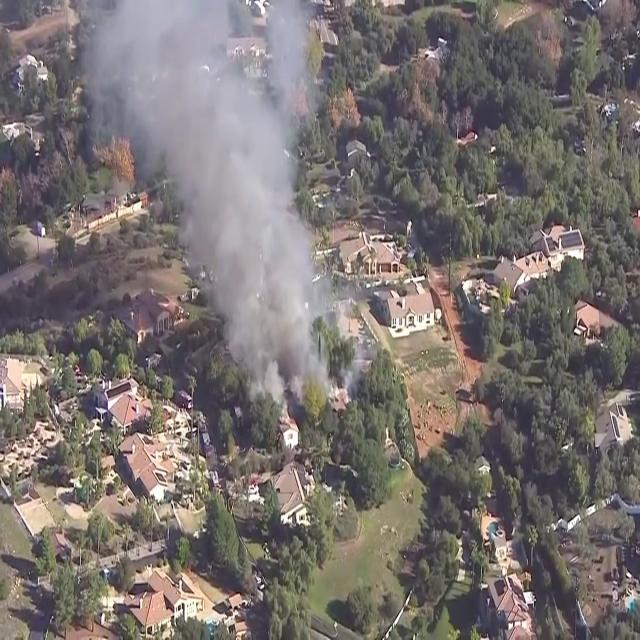Smoke: (62, 0, 342, 429)
